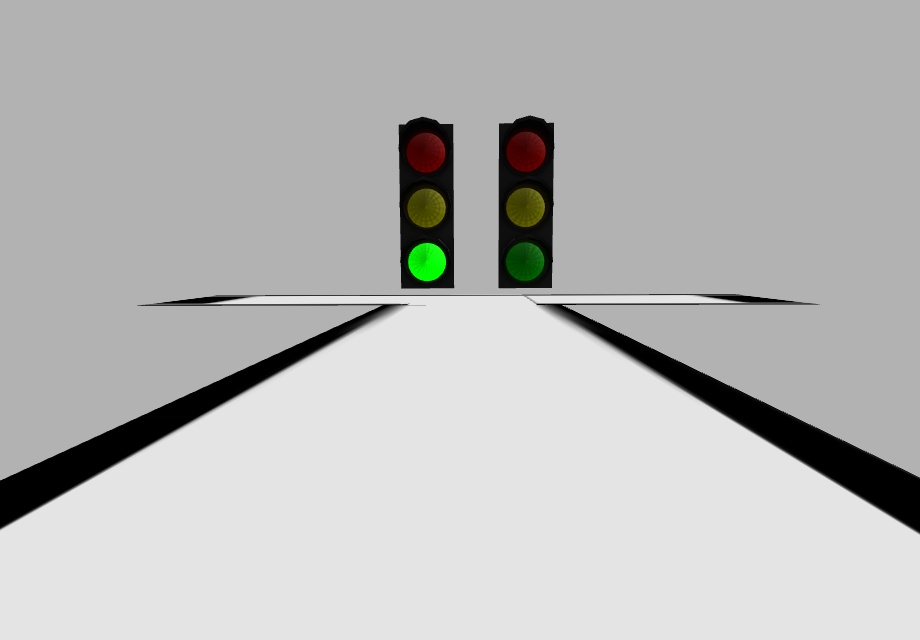green_off: (508, 239, 545, 280)
green_on: (409, 241, 448, 282)
